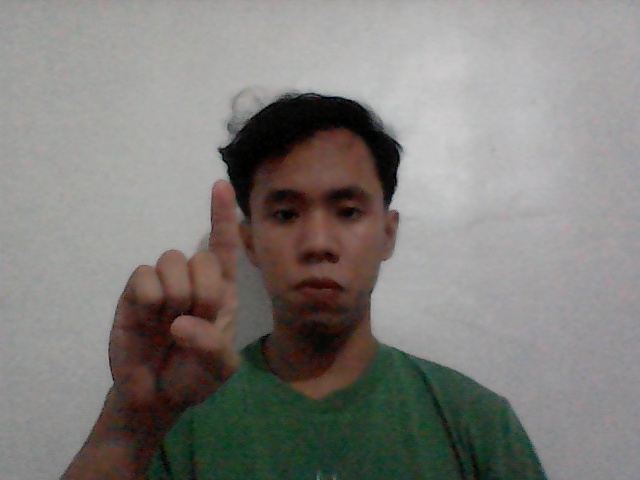D: (78, 156, 261, 435)
